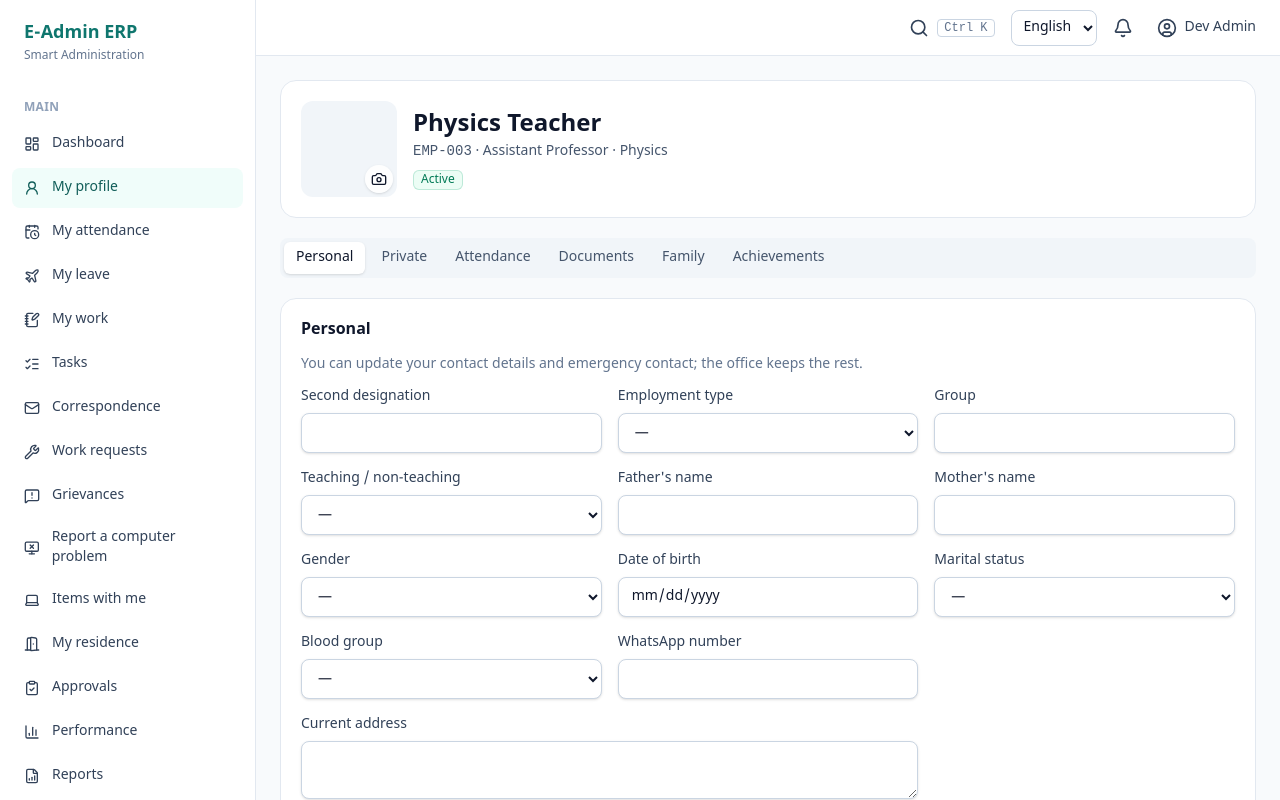
Test: old-app parity: people › own profile: contact fields editable, the rest read-only, private numbers masked until revealed
Expected: the heading "Physics Teacher" is shown, [413,108,601,140]
Expected: the field labelled "WhatsApp number" is enabled, [618,659,918,699]
Click the tab "Private".
click(404, 258)  # box [370,242,439,274]
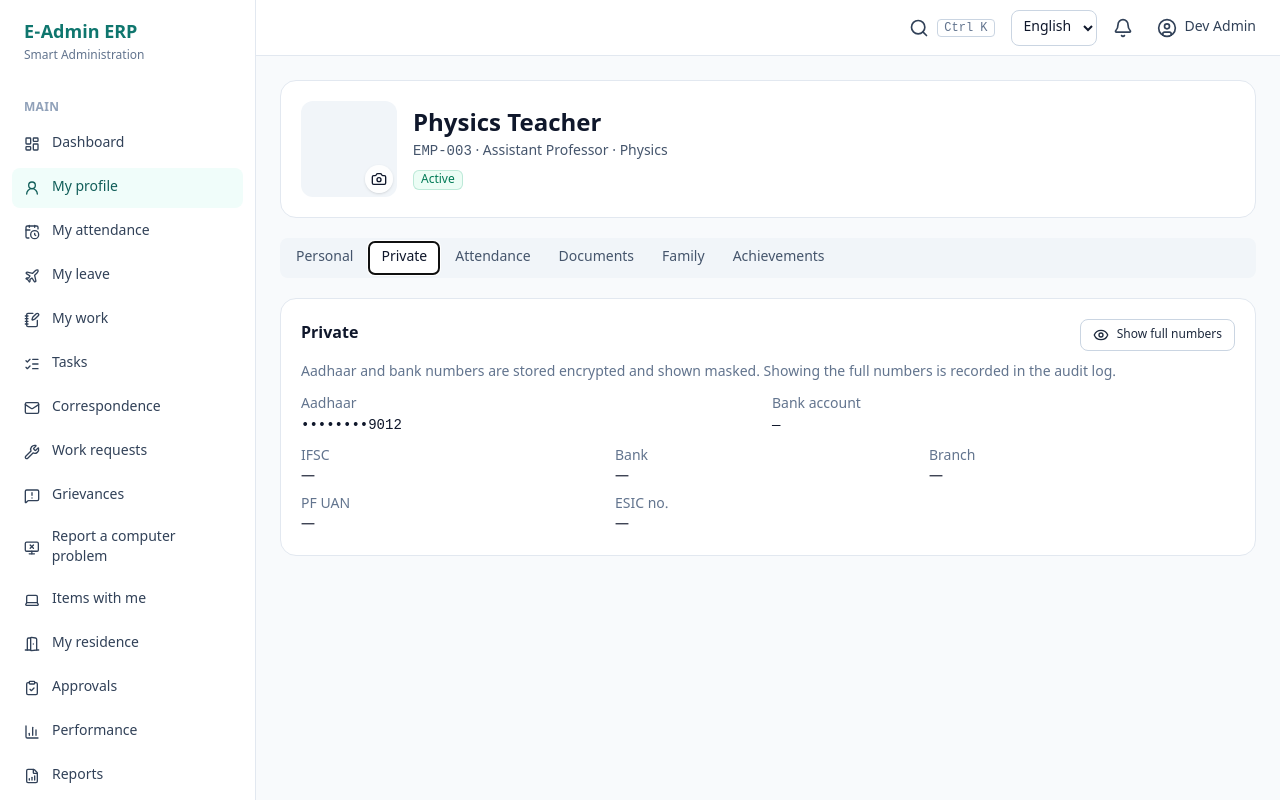
Result: the text "••••••••9012" is shown at [301,417,402,433]
Click the button "Show full numbers".
click(1157, 335)  # box [1080,319,1235,351]
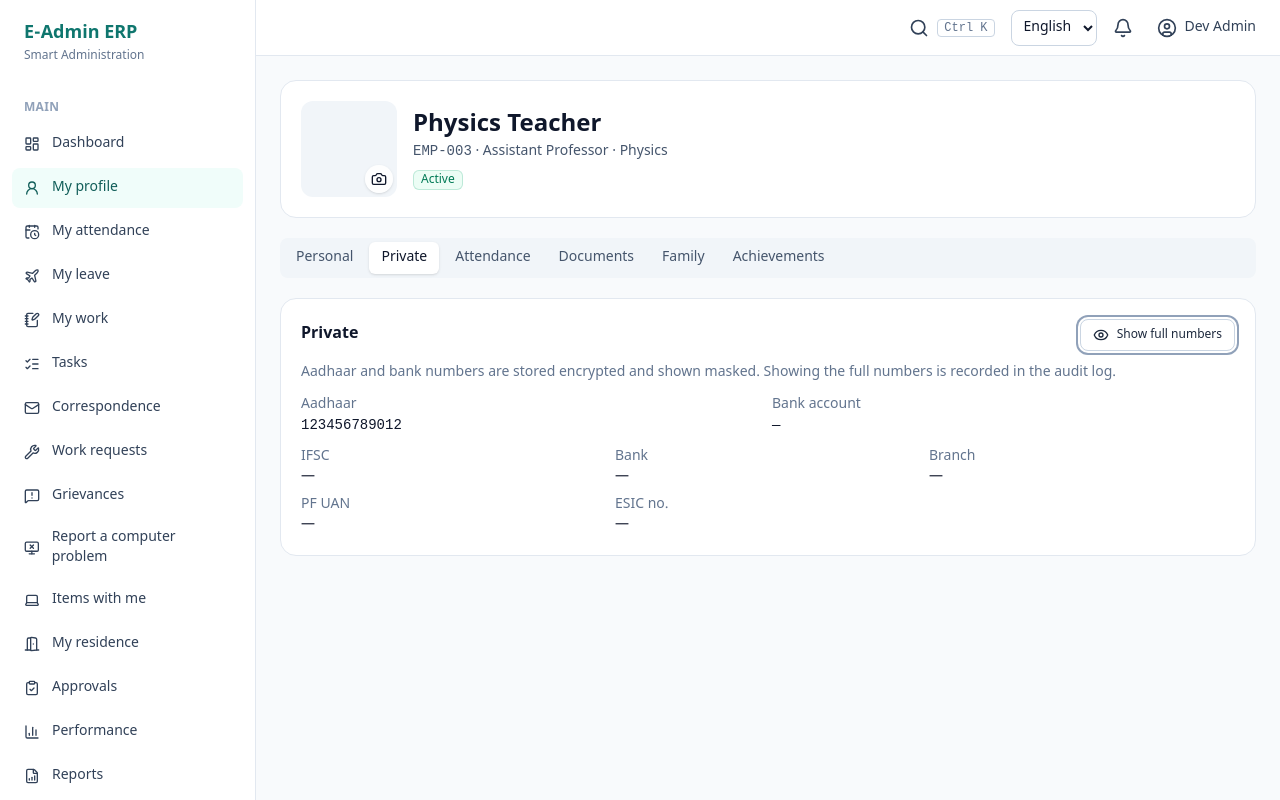
Result: the text "123456789012" is shown at [301,417,402,433]
